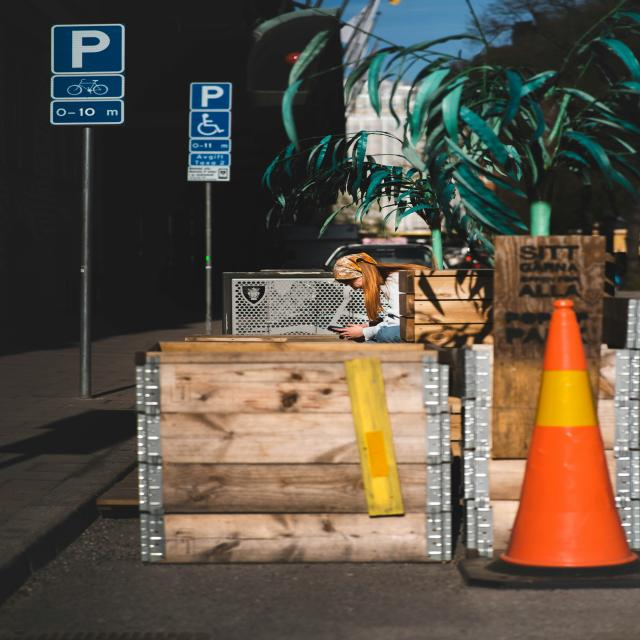Traffic Cone: (454, 286, 640, 595)
